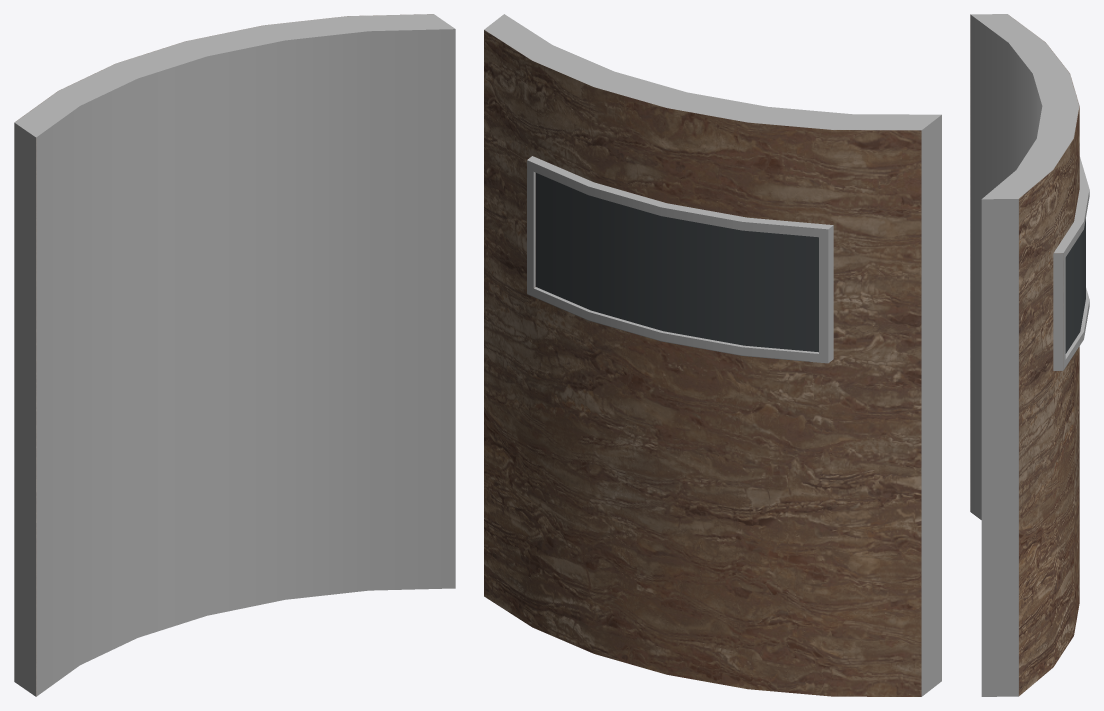
The model's file is porte-coffre.fbx.
The picture shows the model from 3 angles, left to right: view 1: azimuth 30°, elevation 25°; view 2: azimuth 150°, elevation 25°; view 3: azimuth 270°, elevation 25°; orthographic projection. The views are drawn at different scales.
Visible parts, largest first — view 1: coffre; view 2: coffre; view 3: coffre.
Boxes of the visible parts, box(x1,y1,x2,y2) form: coffre: box(14, 14, 455, 696); coffre: box(484, 14, 941, 696); coffre: box(970, 14, 1089, 696).
Bounding box in the file's own units: 54.93 × 68.8 × 14.93.
